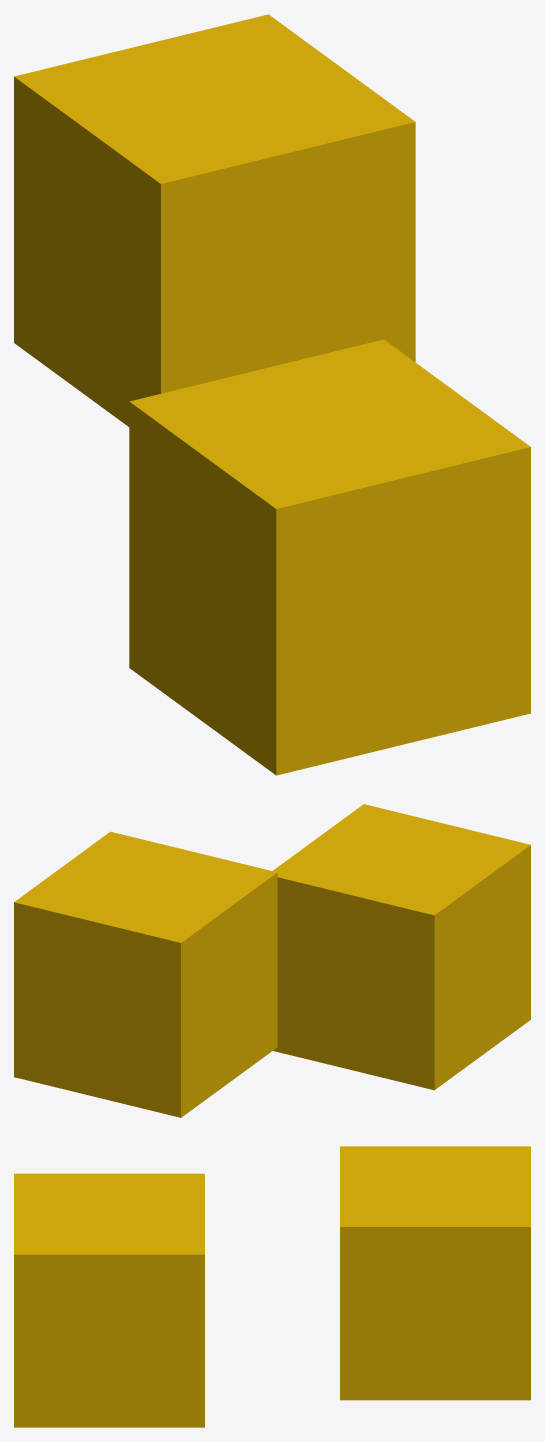
File: sep_mods.glb
3 renders of one model, top to bottom at view 1: azimuth 30°, elevation 25°; view 2: azimuth 150°, elevation 25°; view 3: azimuth 270°, elevation 25°, orthographic. The views are drawn at different scales.
Parts seen in each view (by area): view 1: Cube, Cube.001; view 2: Cube.001, Cube; view 3: Cube, Cube.001.
Part boxes in pixels (x1,y1,x2,y2): Cube: (129, 339, 530, 775); Cube.001: (14, 14, 415, 426); Cube.001: (14, 831, 277, 1117); Cube: (273, 804, 530, 1090); Cube: (14, 1173, 204, 1427); Cube.001: (340, 1146, 530, 1400).
Bounding box in the file's own units: 3.06 × 2.81 × 5.41.
